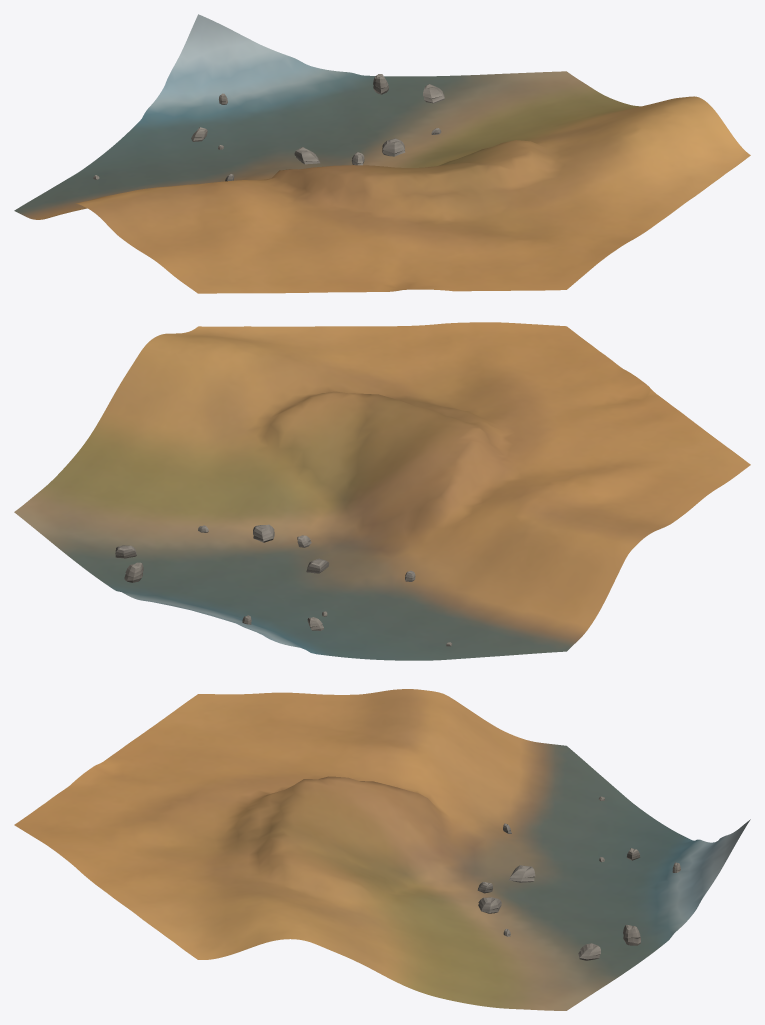
Rendered from costa_+02_-04.glb.
3 views of the same model, one above another, from view 1: azimuth 30°, elevation 25°; view 2: azimuth 150°, elevation 25°; view 3: azimuth 270°, elevation 25° (orthographic).
Visible parts, largest first — view 1: terrain, Formações costeiras; view 2: terrain, Formações costeiras; view 3: terrain, Formações costeiras.
Part boxes in pixels (box(x1,y1,x2,y2)): terrain: box(14, 14, 750, 293); Formações costeiras: box(93, 74, 444, 181); terrain: box(14, 322, 750, 660); Formações costeiras: box(115, 524, 451, 646); terrain: box(14, 689, 750, 1010); Formações costeiras: box(477, 796, 680, 960).
Bounding box in the file's own units: 4330 × 644 × 5000.
Materials: 1 (1 with a texture image).
